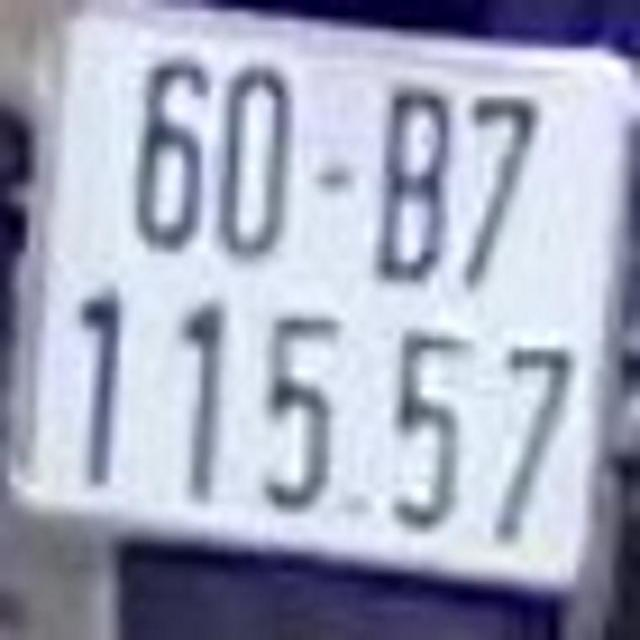0: (218, 59, 291, 264)
1: (76, 280, 126, 497), (184, 299, 228, 511)
5: (393, 323, 479, 536), (266, 309, 344, 514)
6: (133, 50, 211, 255)
7: (465, 89, 538, 297), (497, 344, 574, 537)
B: (376, 85, 452, 288)
